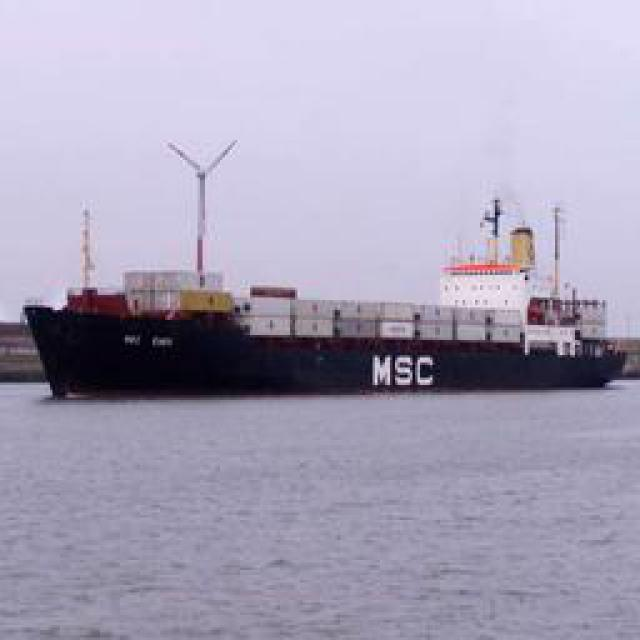Ship: (23, 157, 640, 397)
